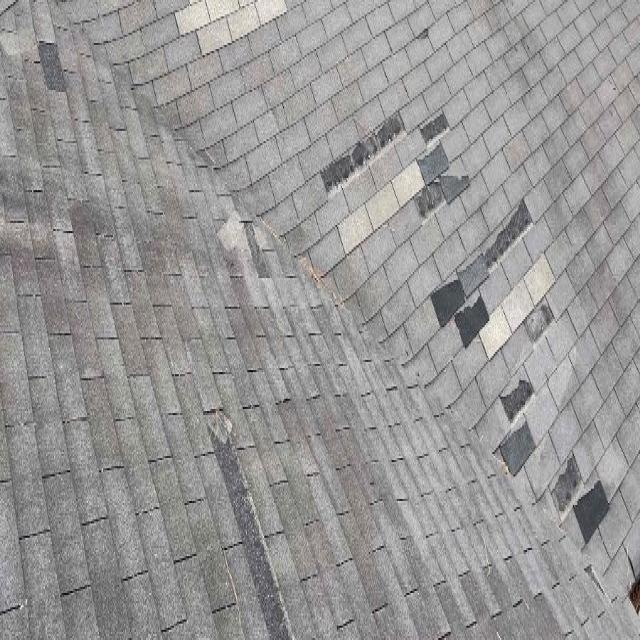damage: (205, 402, 299, 640), (430, 194, 559, 363), (319, 101, 407, 204), (412, 135, 475, 234), (494, 362, 540, 477), (546, 447, 590, 533), (572, 472, 614, 552), (521, 287, 561, 358), (35, 37, 70, 96), (419, 99, 451, 155), (627, 565, 640, 623)
